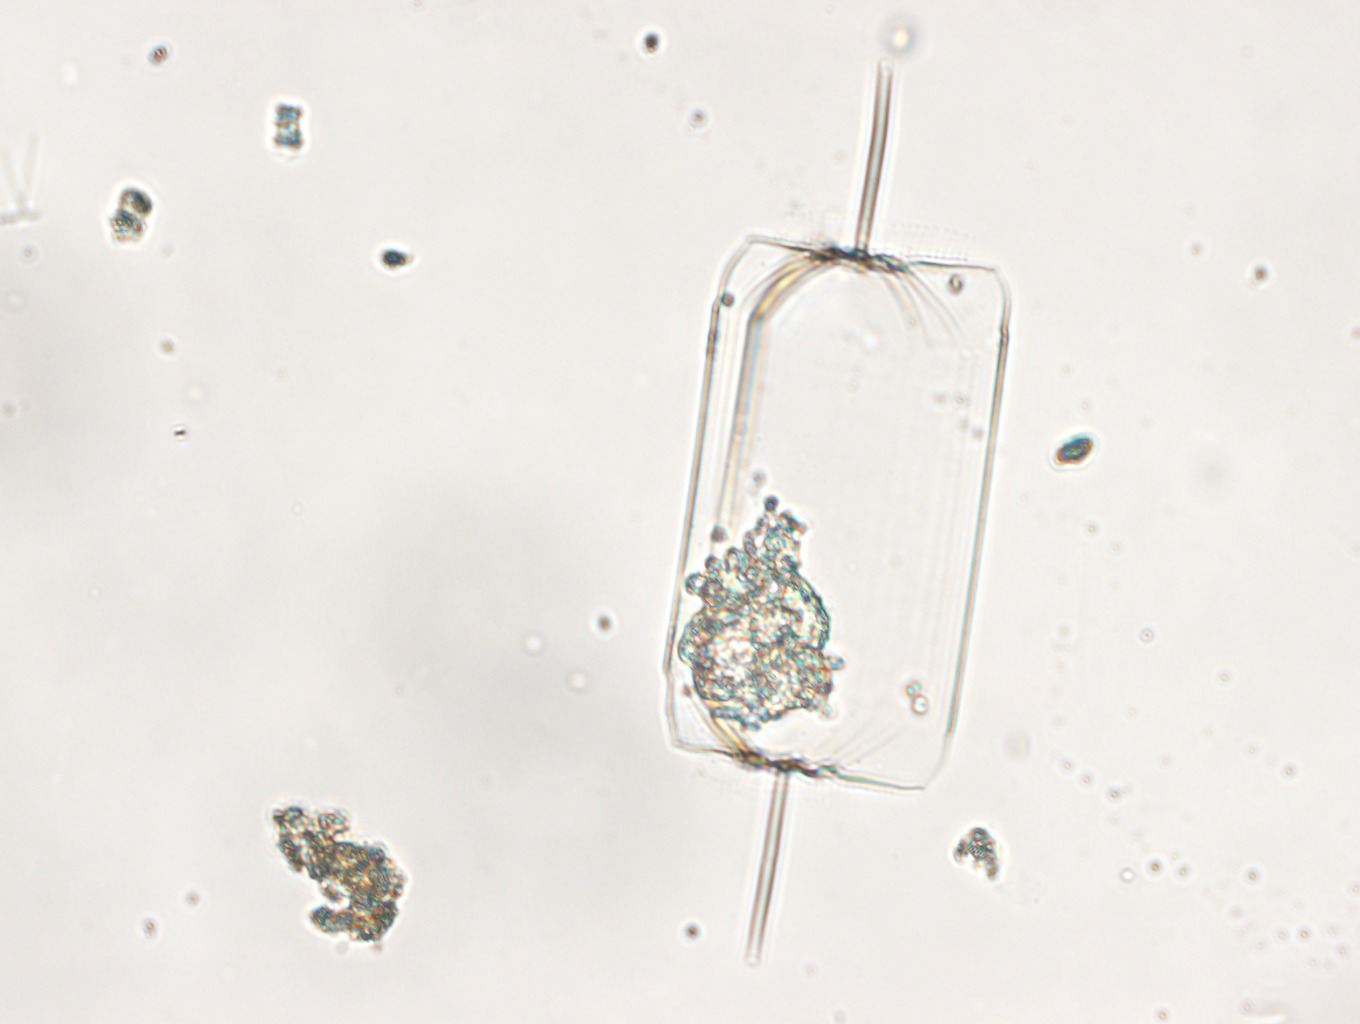ditylum: (661, 52, 1011, 975)
